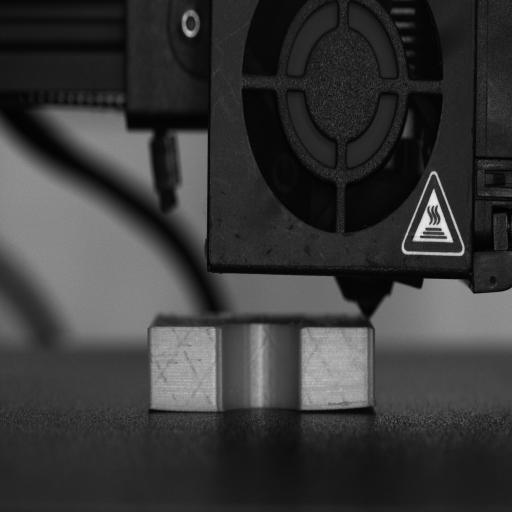warp: (317, 391, 381, 418)
